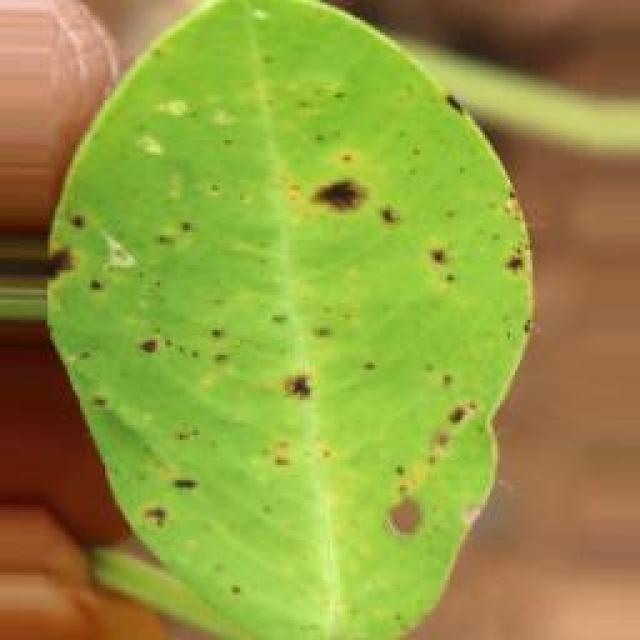Yellowish: (69, 0, 534, 585)
